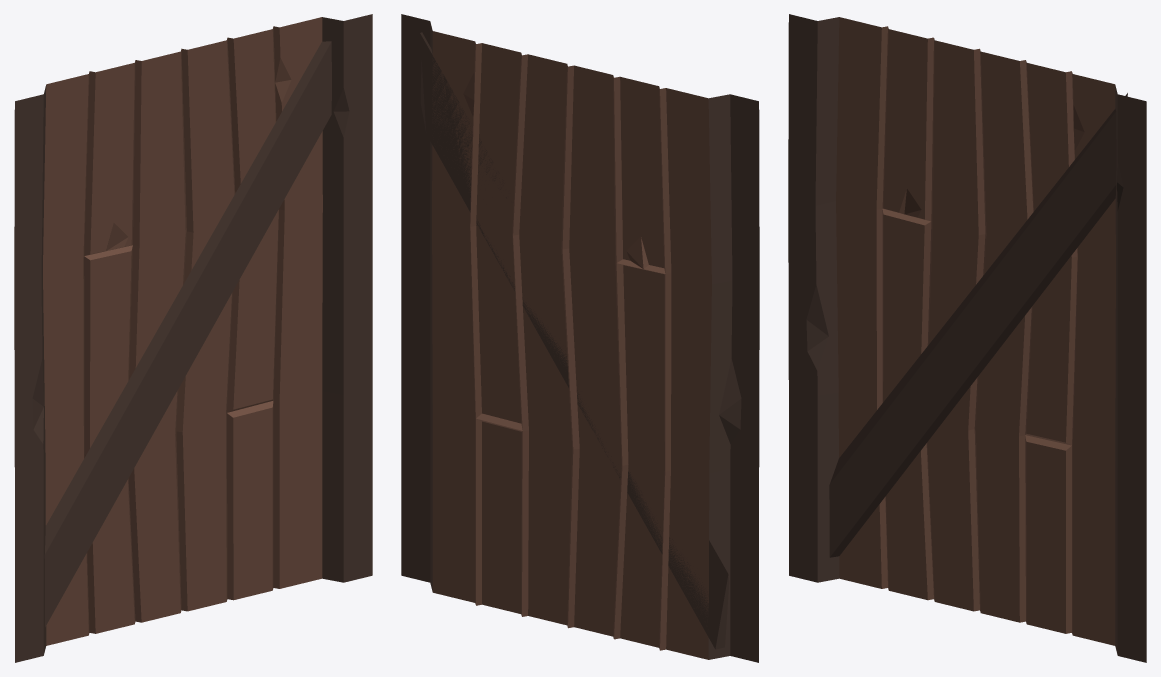
Rendered from LPHorror_2MWallE.fbx.
The picture shows the model from 3 angles, left to right: view 1: azimuth 30°, elevation 25°; view 2: azimuth 150°, elevation 25°; view 3: azimuth 330°, elevation 25°; orthographic projection.
Parts seen in each view (by area): view 1: 2MWallE; view 2: 2MWallE; view 3: 2MWallE.
Boxes of the visible parts, x1,y1,x2,y2 form: 2MWallE: (14, 14, 372, 662); 2MWallE: (401, 14, 759, 662); 2MWallE: (788, 14, 1146, 662).
Bounding box in the file's own units: 200 × 300 × 11.85.
